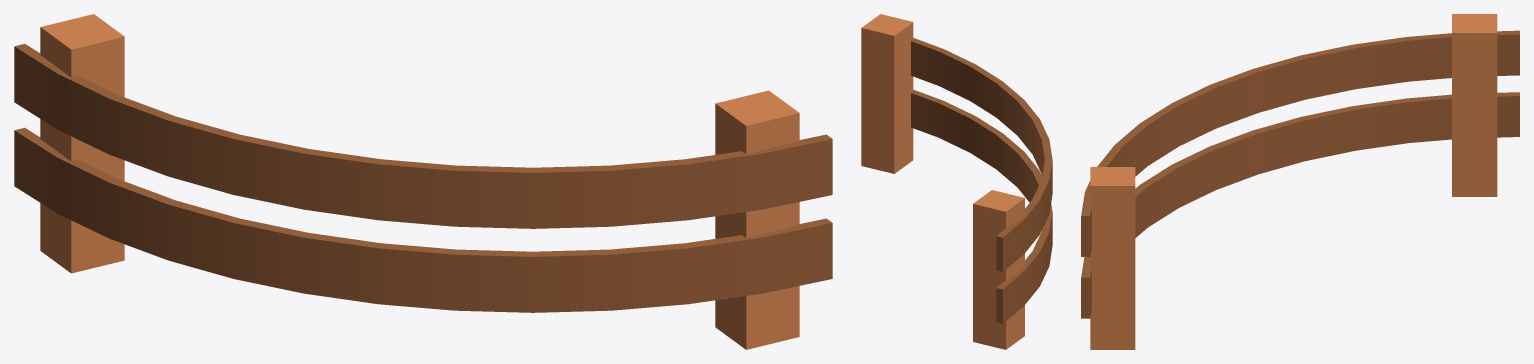
File: fenceCornerCurved.obj
3 views of the same model, side by side, from view 1: azimuth 30°, elevation 25°; view 2: azimuth 150°, elevation 25°; view 3: azimuth 270°, elevation 25° (orthographic). The views are drawn at different scales.
Visible parts, largest first — view 1: fenceCornerCurved; view 2: fenceCornerCurved; view 3: fenceCornerCurved.
Part boxes in pixels (x1,y1,x2,y2): fenceCornerCurved: (14, 14, 832, 349); fenceCornerCurved: (861, 14, 1052, 349); fenceCornerCurved: (1081, 14, 1519, 349).
Bounding box in the file's own units: 0.97 × 0.4 × 0.97.
